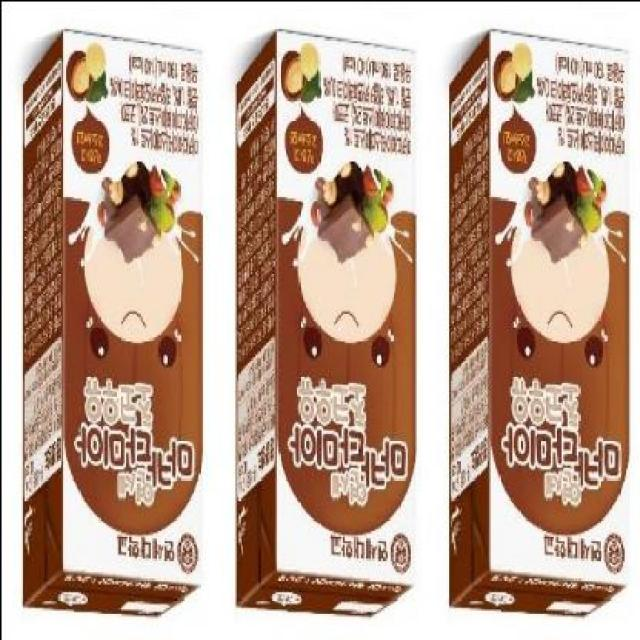tetra: (211, 12, 431, 638), (5, 2, 218, 640), (436, 17, 639, 632)
